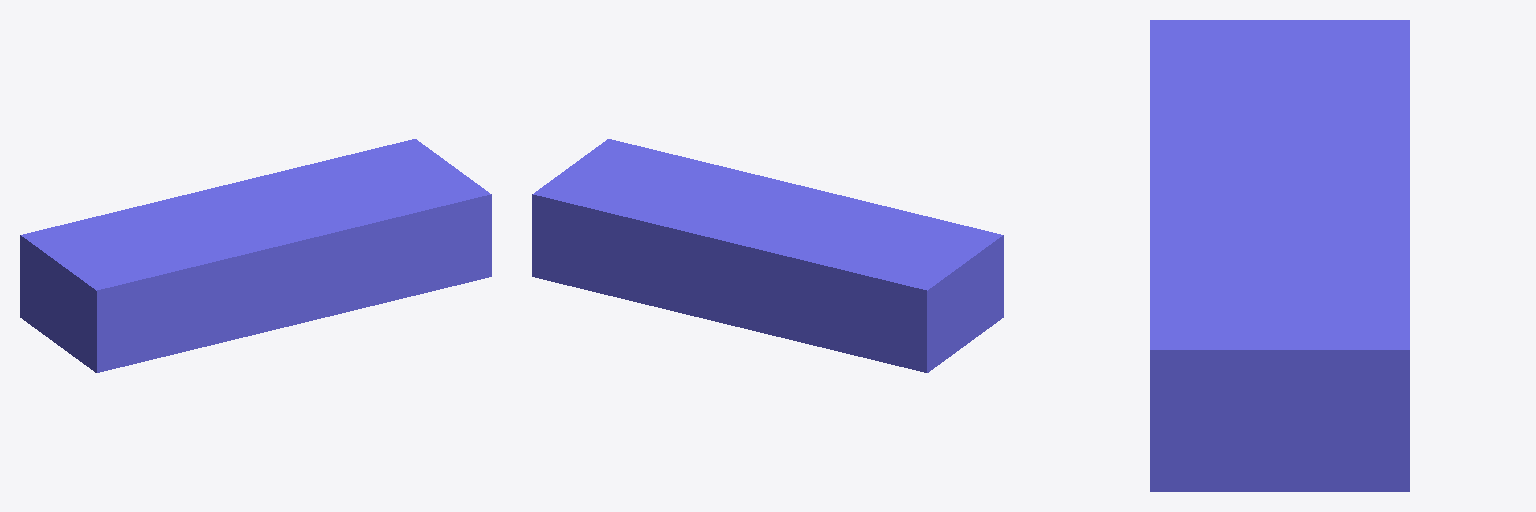
URDF robot description (jenga.urdf):
<?xml version="0.0" ?>
<robot name="jenga.urdf">
  <link name="baseLink">
    <contact>
      <lateral_friction value="1.0"/>
    </contact>
    <inertial>
      <origin rpy="0 0 0" xyz="0 0 0"/>
       <mass value="1.0"/>
       <inertia ixx="1" ixy="0" ixz="0" iyy="1" iyz="0" izz="1"/>
    </inertial>
    <visual>
      <origin rpy="0 0 0" xyz="0 0 0"/>
      <geometry>
				<mesh filename="jenga.obj" scale="0.15 0.05 0.03"/>
      </geometry>
       <material name="blue">
        <color rgba="0.5 0.5 1 1"/>
      </material>
    </visual>
    <collision>
      <origin rpy="0 0 0" xyz="0 0 0"/>
      <geometry>
	 	<box size="0.15 0.05 0.03"/>
      </geometry>
    </collision>
  </link>
</robot>

--- Facts derived from the render (not from the file) ---
3 views of the same robot in one strip: view 1: azimuth 30°, elevation 25°; view 2: azimuth 150°, elevation 25°; view 3: azimuth 270°, elevation 25° (orthographic).
Model jenga.urdf with 1 links and 0 joints (none), rooted at baseLink, posed every joint at zero.
Links seen in each view (by area): view 1: baseLink; view 2: baseLink; view 3: baseLink.
Link boxes in pixels (<box>): baseLink: <box>20,139,491,372</box>; baseLink: <box>532,139,1003,372</box>; baseLink: <box>1150,20,1409,491</box>.
Size in the robot's own frame: 0.15 by 0.05 by 0.03 metres.
1 mesh visuals loaded from 1 distinct referenced files (1 OBJ).